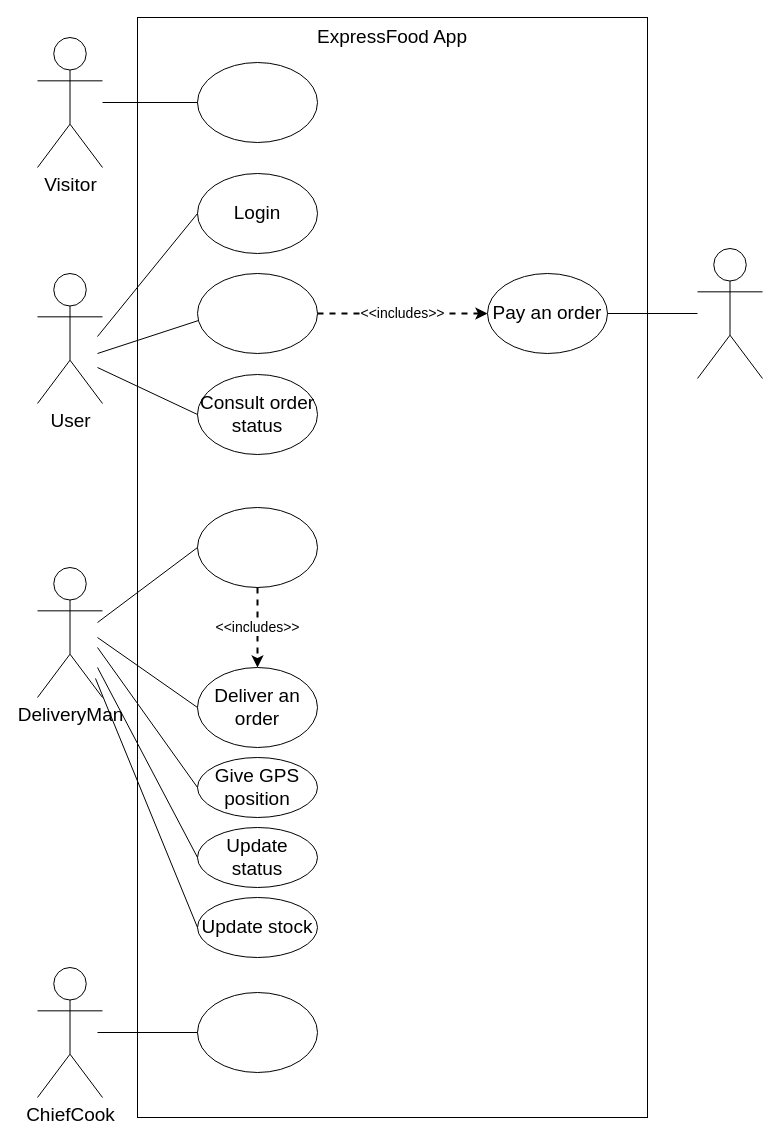
Image size: 780x1145. Some labels were removed from this diagram. The centre of each missing label's shape, as x and y in pixels:
Add new dish: point (257, 1032)
Bank: point (729, 313)
Create account: point (257, 102)
Order a Meal: point (257, 313)
Receive an order: point (257, 547)
